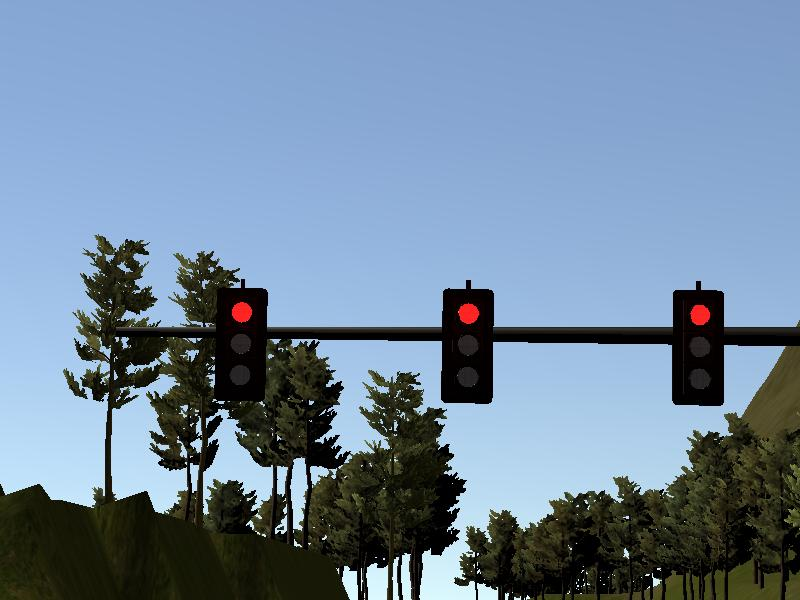red: (671, 287, 723, 405), (442, 287, 493, 402), (215, 288, 265, 401)
